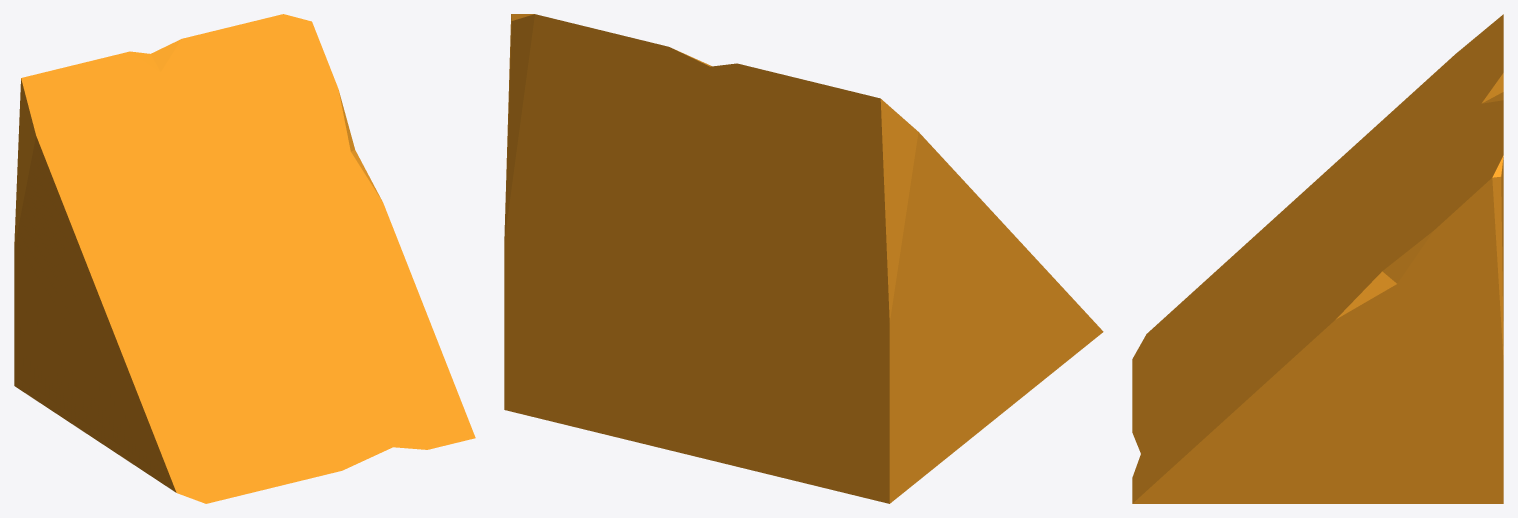
The model's file is SM_Buildings_Ramp_45_1x1_01P.fbx.
3 views of the same model, side by side, from view 1: azimuth 30°, elevation 25°; view 2: azimuth 150°, elevation 25°; view 3: azimuth 270°, elevation 25° (orthographic). The views are drawn at different scales.
Parts seen in each view (by area): view 1: SM_Buildings_Ramp_45_1x1_01P; view 2: SM_Buildings_Ramp_45_1x1_01P; view 3: SM_Buildings_Ramp_45_1x1_01P.
Boxes of the visible parts, x1,y1,x2,y2 form: SM_Buildings_Ramp_45_1x1_01P: [14, 14, 475, 503]; SM_Buildings_Ramp_45_1x1_01P: [504, 14, 1103, 503]; SM_Buildings_Ramp_45_1x1_01P: [1132, 14, 1503, 503].
Size of the model in its own units: 100 by 100 by 100.
